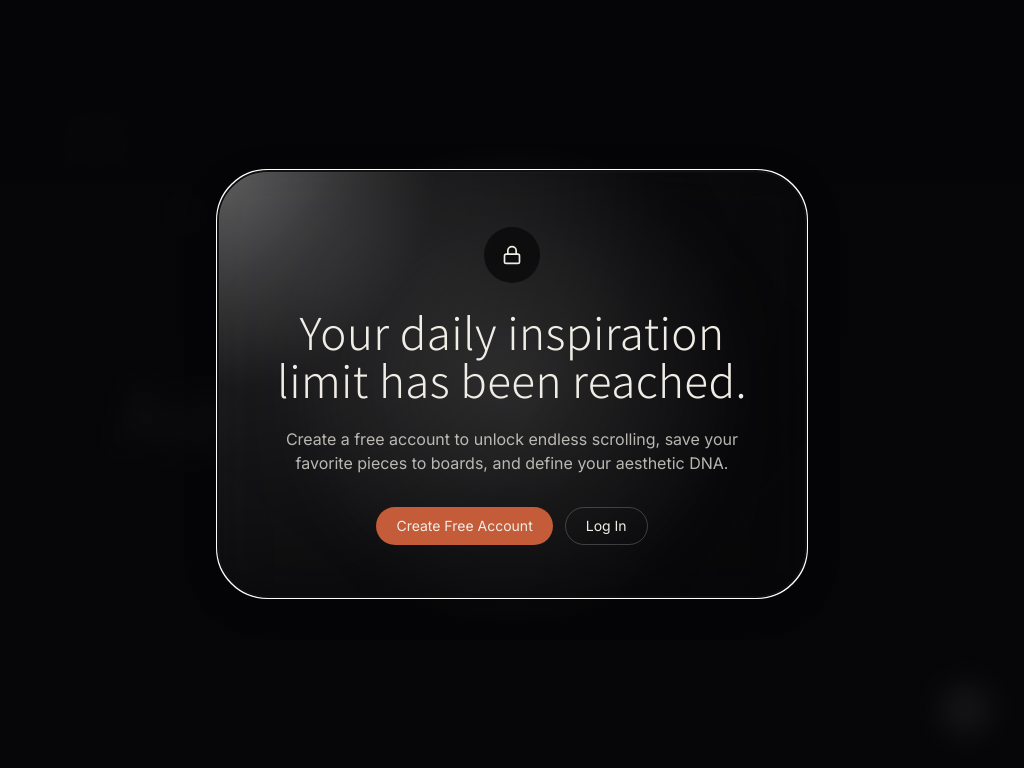
Test: Home › does not reopen the modal after closing — shows the header hint and clamps within the limit
The image size is (1024, 768).
(page scrolled)
Click the element with class "overlay-backdrop" at (61, 384), box 0,0 -> 1023,767
(page scrolled)
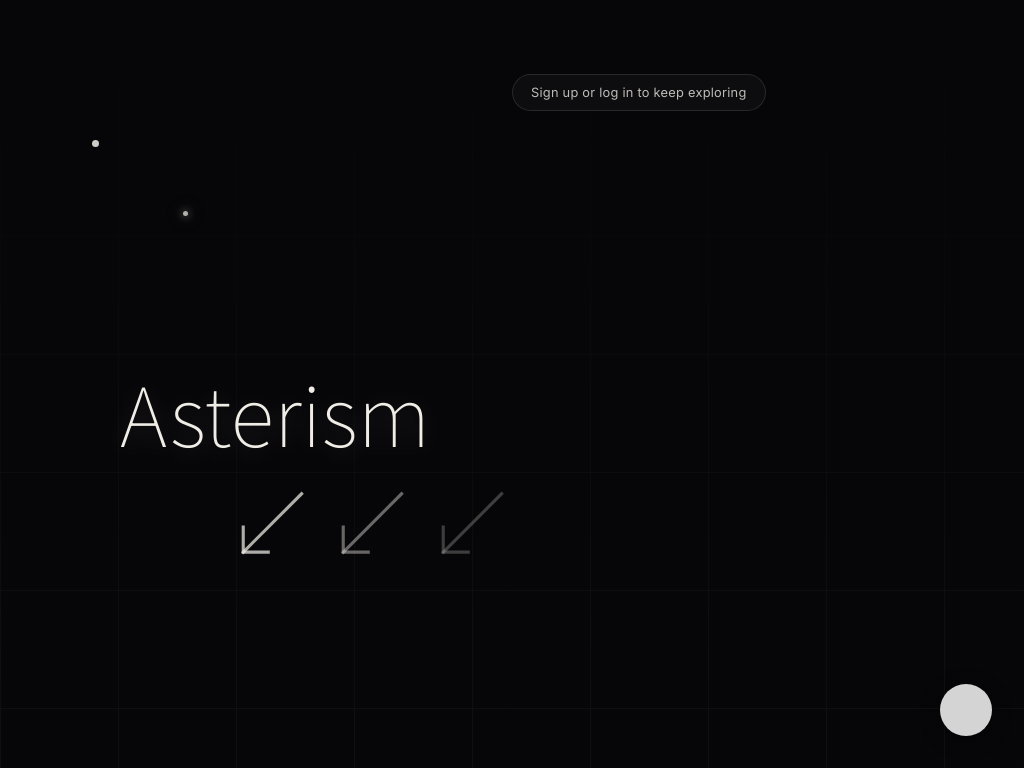
Check: the text "Your daily inspiration limit has been reached." is gone
Check: the text "Sign up or log in to keep exploring" is shown, box 512,74 -> 766,111
